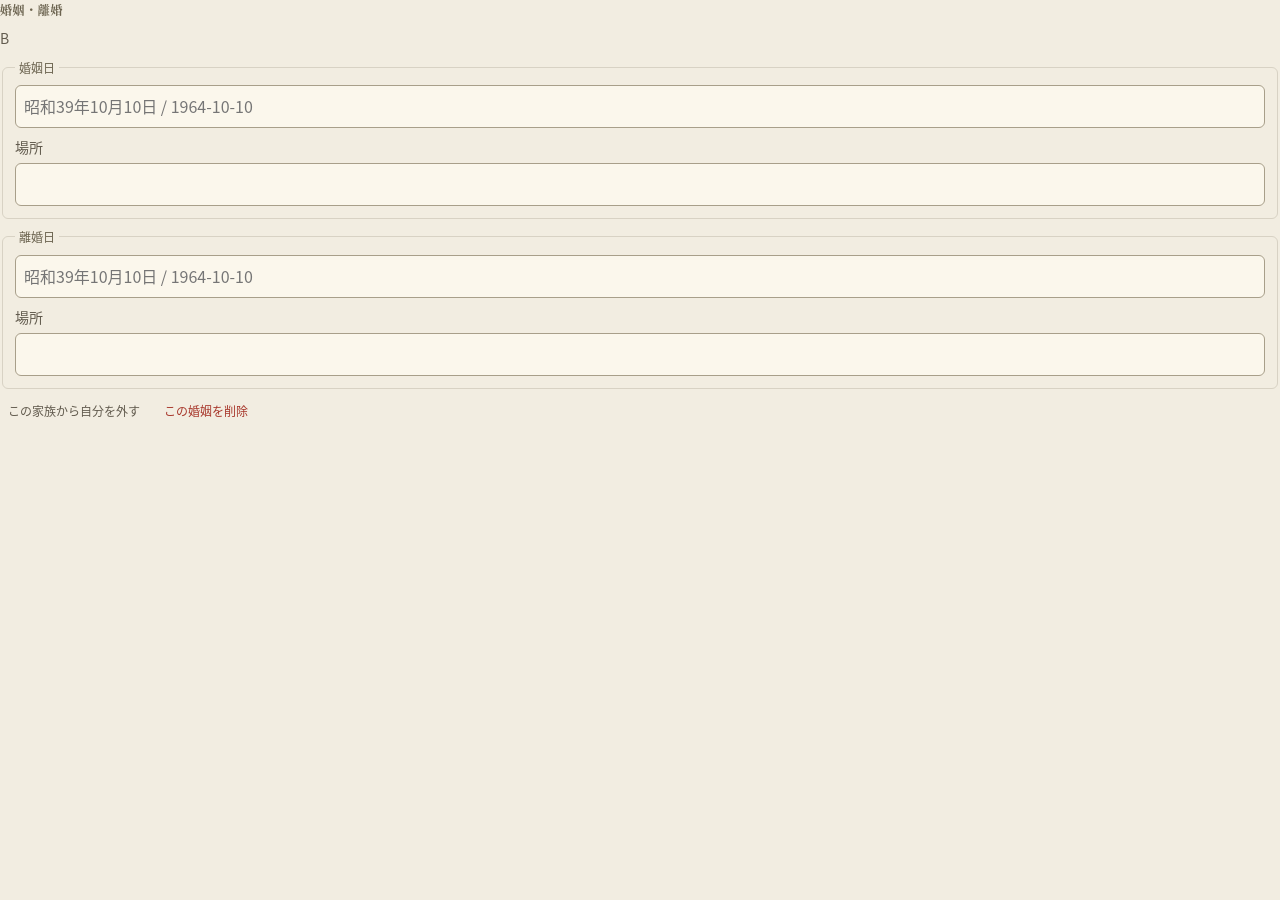
Scenario: FamilyEventEditor: 婚姻単位の削除 › 確認ダイアログに失われる婚姻の記録と子の帰属の件数が示される
Click the button "この婚姻を削除".
click(206, 411)  # box [156,397,256,424]
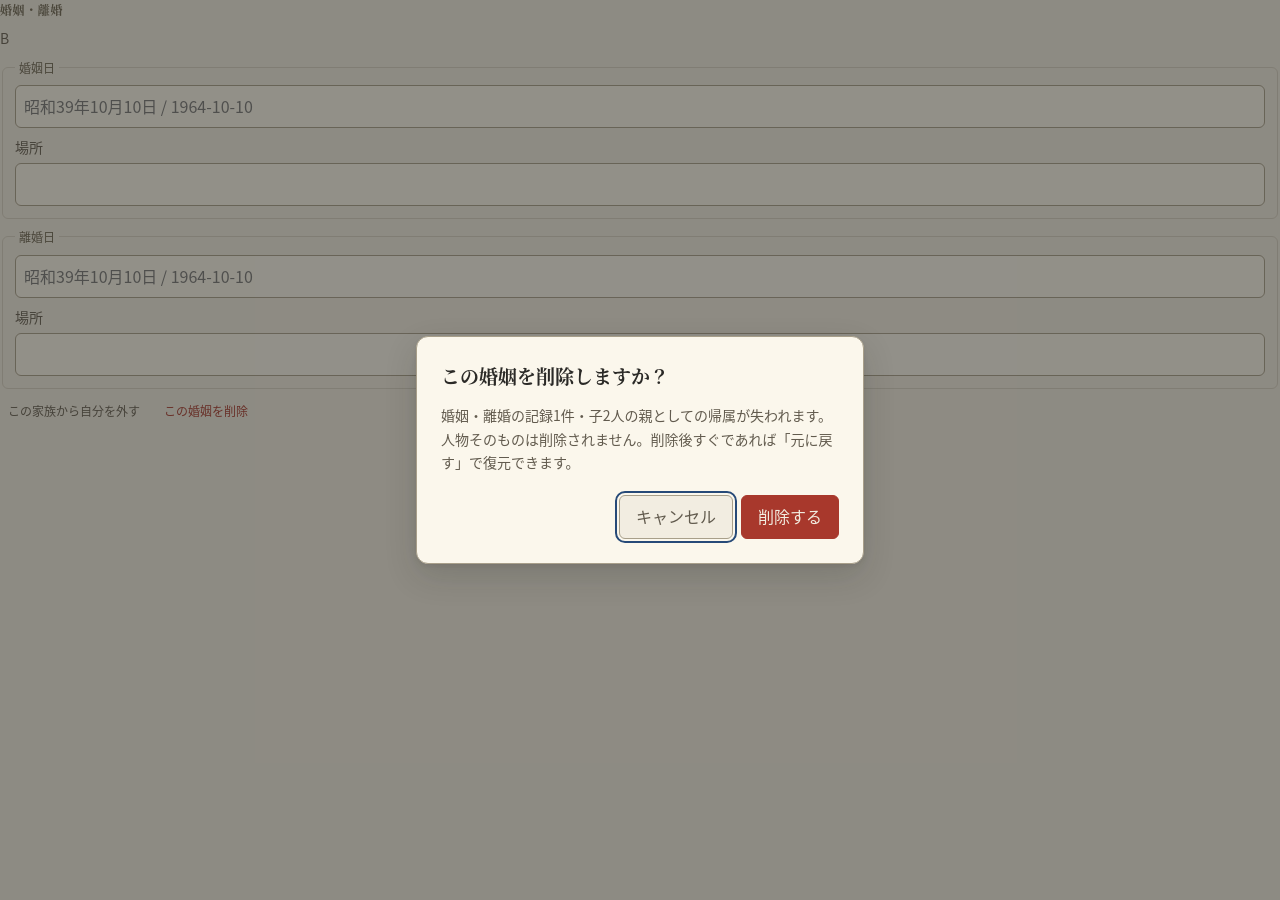
Check: the dialog shows "婚姻・離婚の記録1件", box [441,405,736,425]
Check: the dialog shows "子2人の親としての帰属", box [441,405,736,425]
Check: the dialog shows "人物そのものは削除されません", box [441,428,833,472]
